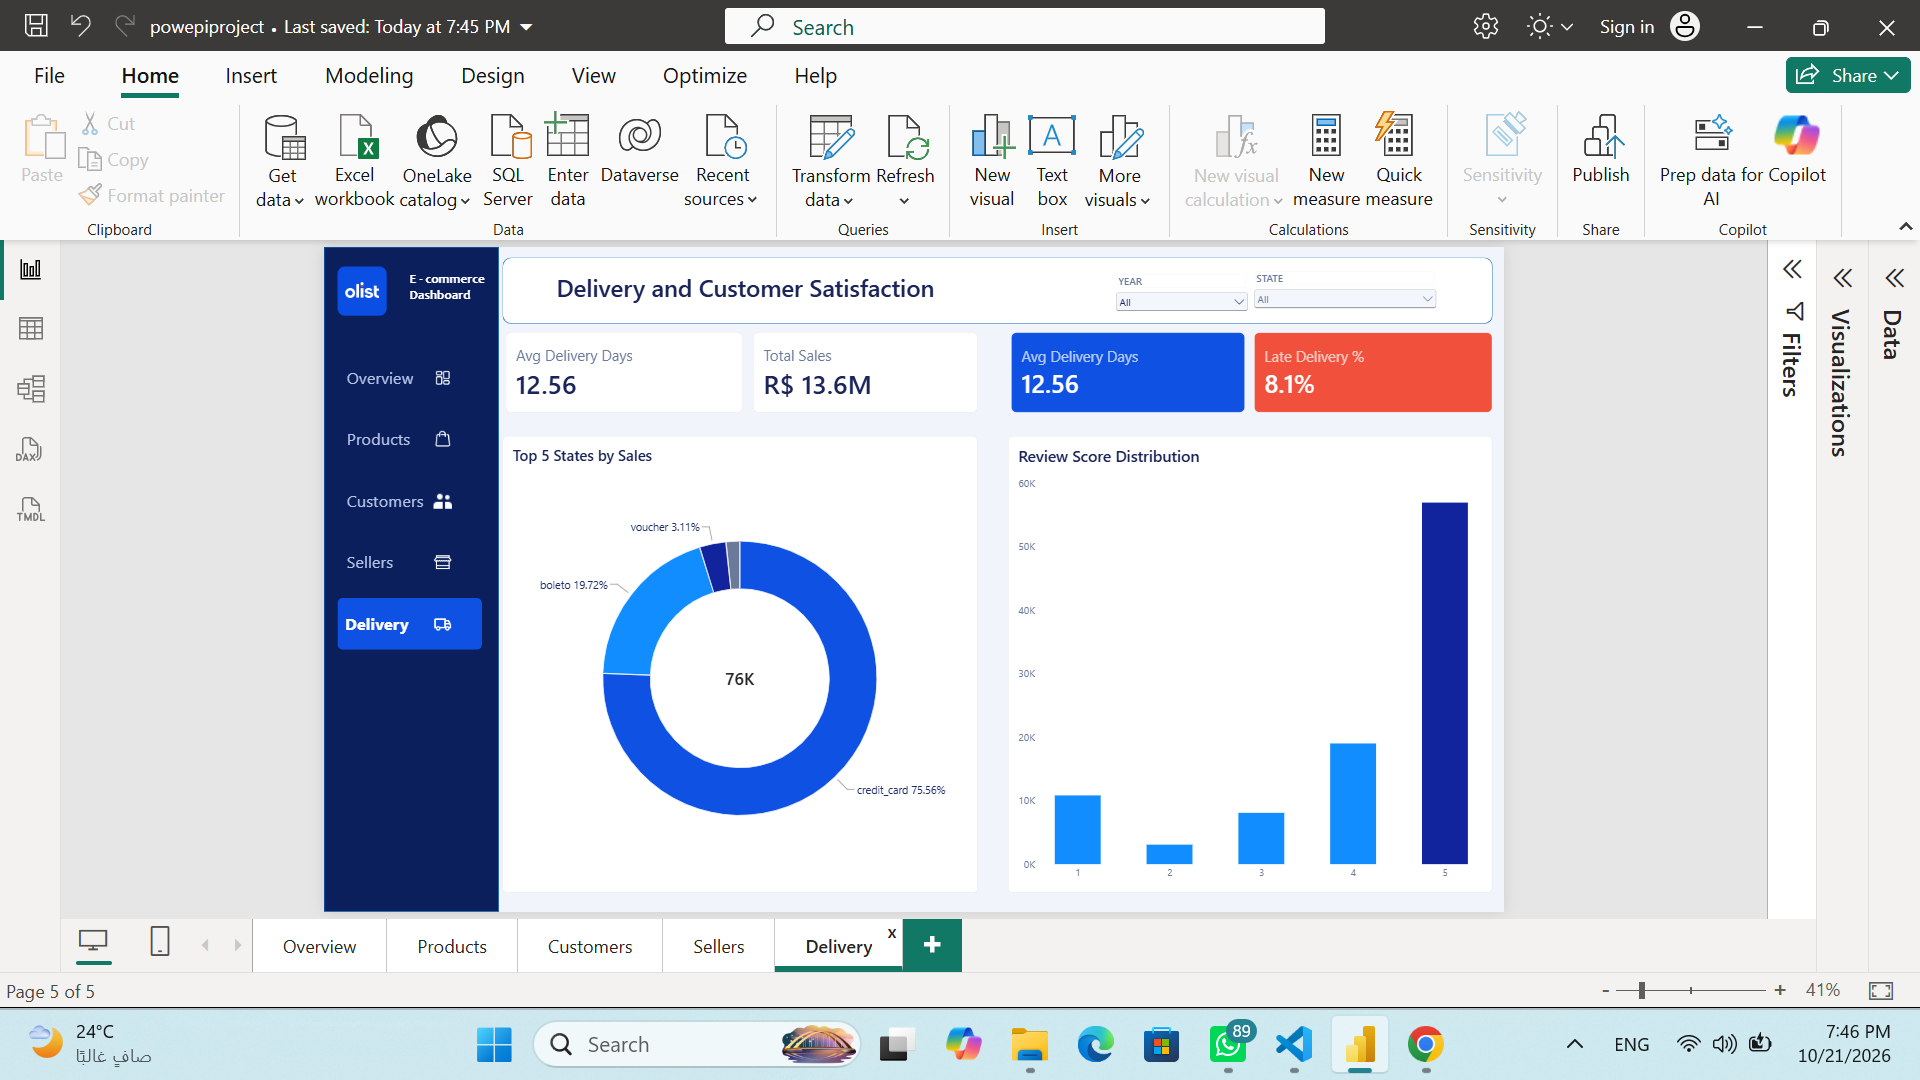

The page's visual inventory and layout, read from the dashboard file:
{"tool":"powerbi","page":{"name":"Delivery","canvas":[1920,1080],"ordinal":4},"visuals":[{"type":"shape","box":[0,0,284,1080.8],"z":0},{"type":"image","box":[22.3,31.8,80,80],"z":1000},{"type":"textbox","title":"E - commerce Dashboard","box":[139.8,39.7,176.6,62],"z":3000},{"type":"clusteredColumnChart","title":"Review Score Distribution","fields":{"Category":["DIM_ORDER.REVIEW_SCORE"],"Y":["_Measures.Total Orders"]},"box":[1112.5,307.5,787.5,742.5],"z":8000},{"type":"shape","box":[289.1,17,1610.1,107.7],"z":9000},{"type":"textbox","title":"Delivery and Customer Satisfaction","box":[378,40,644,62],"z":10000},{"type":"slicer","fields":{"Values":["DIM_DATE.YEAR"]},"box":[1284,44,224,60],"z":11000},{"type":"slicer","fields":{"Values":["DIM_CUSTOMER.STATE"]},"box":[1508,40,306.1,79.4],"z":12000},{"type":"donutChart","title":"Top 5 States by Sales","fields":{"Category":["DIM_ORDER.MAIN_PAYMENT_TYPE"],"Y":["_Measures.Total Orders"]},"box":[290,307.5,772.5,742.5],"z":13000},{"type":"cardVisual","fields":{"Data":["_Measures.Total Sales"]},"box":[692.5,138,370,130],"z":13001},{"type":"cardVisual","fields":{"Data":["_Measures.Avg Delivery Days"]},"box":[1112.5,138,385,130],"z":13002},{"type":"cardVisual","fields":{"Data":["_Measures.Late Delivery %"]},"box":[1507.5,138,392.5,130],"z":13003},{"type":"cardVisual","fields":{"Data":["_Measures.Avg Delivery Days"]},"box":[289.1,138.9,390,130],"z":13004},{"type":"pageNavigator","box":[22.7,170,235.3,484.7],"z":13005},{"type":"image","box":[170,198,44,30],"z":13006},{"type":"image","box":[170,298,44,30],"z":13007},{"type":"image","box":[170,398,44,30],"z":13008},{"type":"image","box":[170,498,44,30],"z":13009},{"type":"image","box":[170,598,44,30],"z":13010}]}

Visuals, with their boxes on the page's 1920x1080 design canvas (x1, y1, x2, y2). These are canvas units, not pixel positions in the 1920x1080 screenshot, which may show the page scaled, cropped or inside an application window:
shape: <region>0, 0, 284, 1081</region>
image: <region>22, 32, 102, 112</region>
"E - commerce Dashboard" textbox: <region>140, 40, 316, 102</region>
"Review Score Distribution" clusteredColumnChart: <region>1112, 308, 1900, 1050</region>
shape: <region>289, 17, 1899, 125</region>
"Delivery and Customer Satisfaction" textbox: <region>378, 40, 1022, 102</region>
slicer - DIM_DATE.YEAR: <region>1284, 44, 1508, 104</region>
slicer - DIM_CUSTOMER.STATE: <region>1508, 40, 1814, 119</region>
"Top 5 States by Sales" donutChart: <region>290, 308, 1062, 1050</region>
cardVisual - _Measures.Total Sales: <region>692, 138, 1062, 268</region>
cardVisual - _Measures.Avg Delivery Days: <region>1112, 138, 1498, 268</region>
cardVisual - _Measures.Late Delivery %: <region>1508, 138, 1900, 268</region>
cardVisual - _Measures.Avg Delivery Days: <region>289, 139, 679, 269</region>
pageNavigator: <region>23, 170, 258, 655</region>
image: <region>170, 198, 214, 228</region>
image: <region>170, 298, 214, 328</region>
image: <region>170, 398, 214, 428</region>
image: <region>170, 498, 214, 528</region>
image: <region>170, 598, 214, 628</region>
